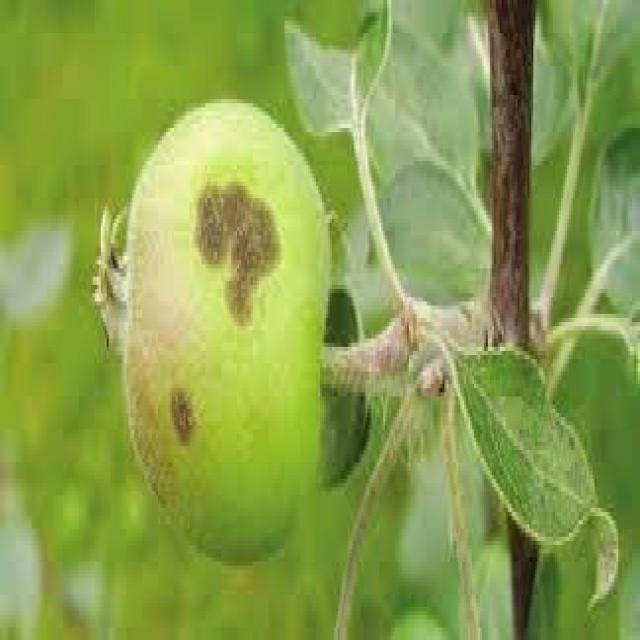maca: (91, 95, 332, 566)
